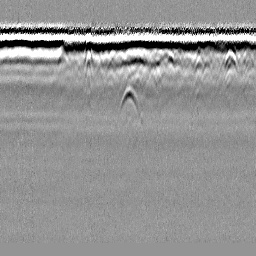cavity: (116, 84, 142, 126)
